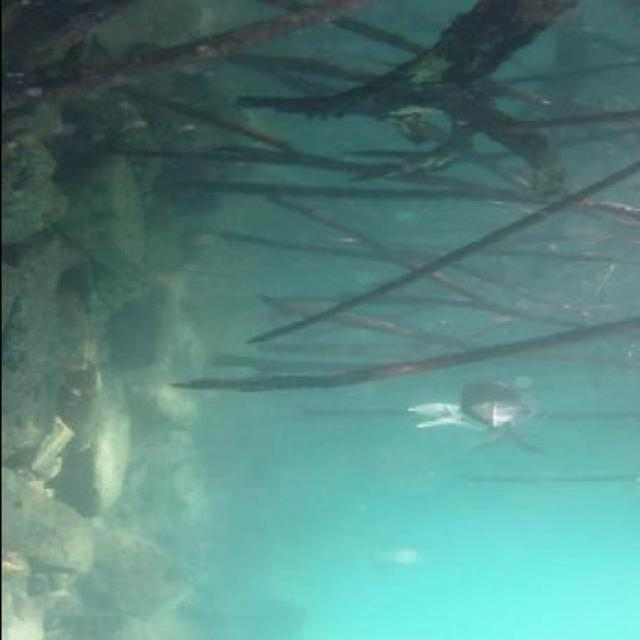Caranx_sexfasciatus_juvenile: (452, 379, 536, 435), (462, 404, 546, 456), (398, 402, 469, 436)
